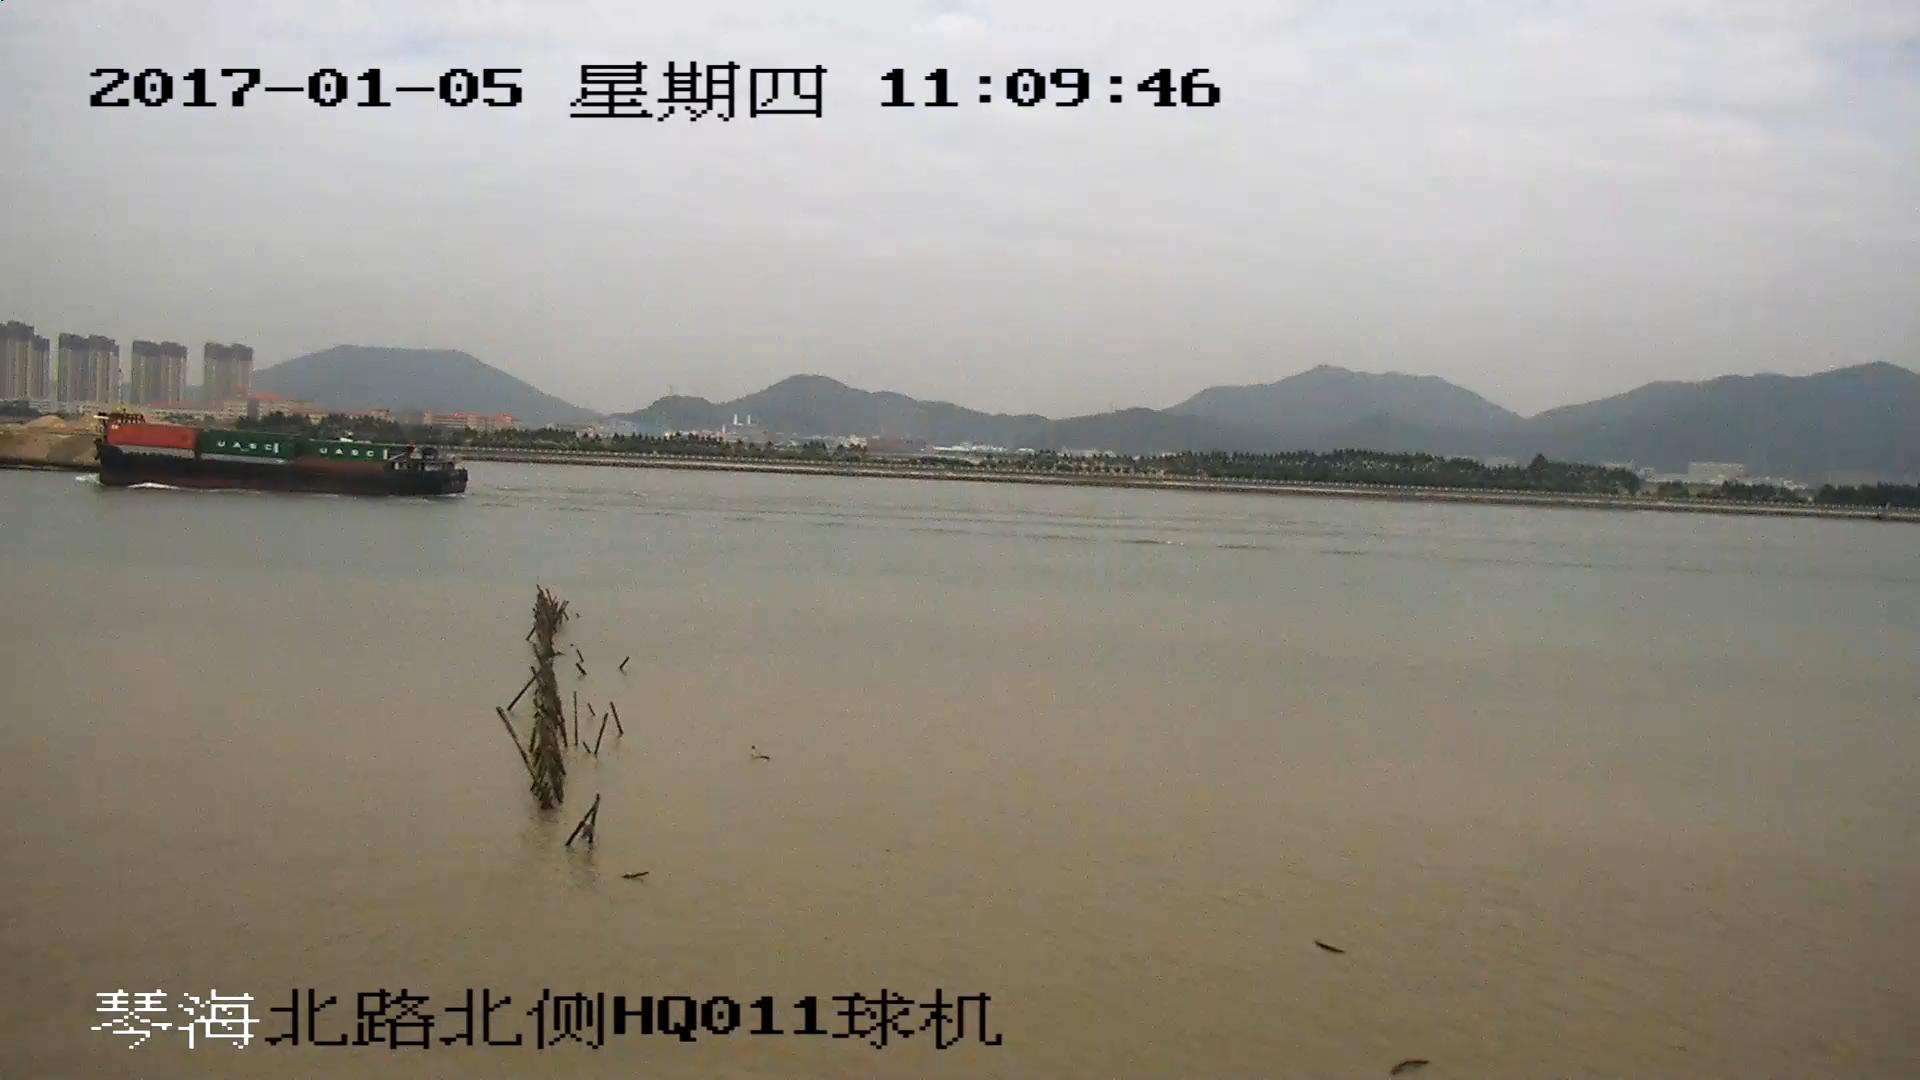container ship: (96, 421, 466, 494)
ore carrier: (1, 430, 95, 471)
